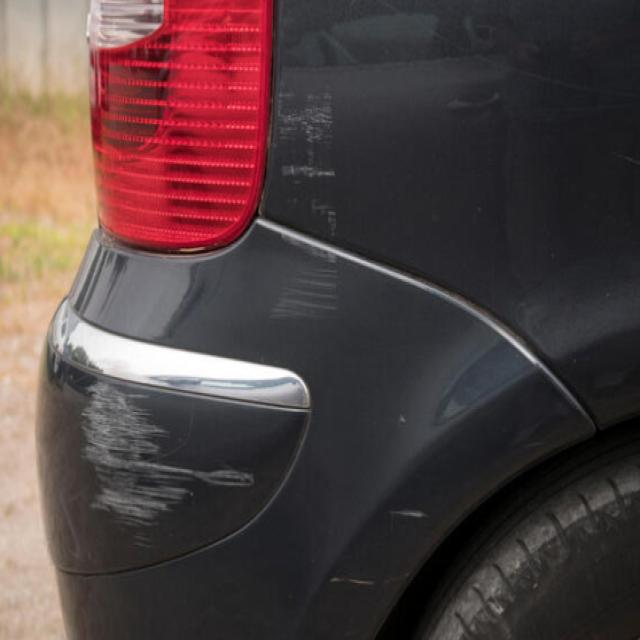scratch: (67, 372, 266, 536), (254, 81, 356, 314), (320, 558, 383, 598), (388, 497, 429, 538)
